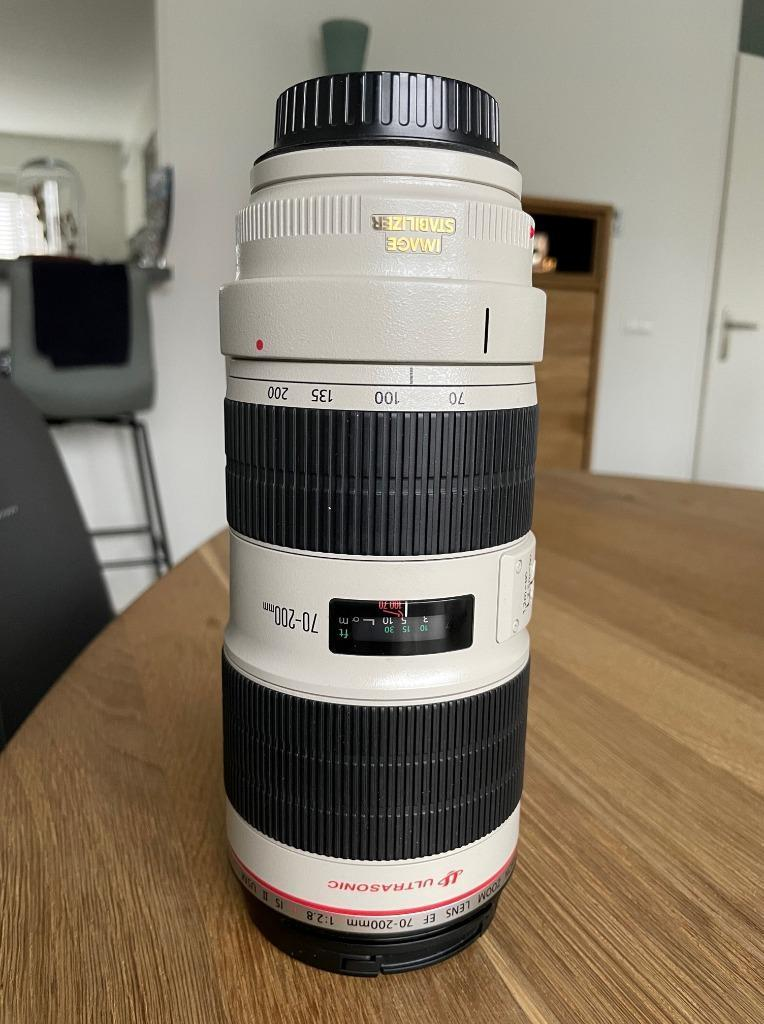lense: (217, 70, 542, 977)
